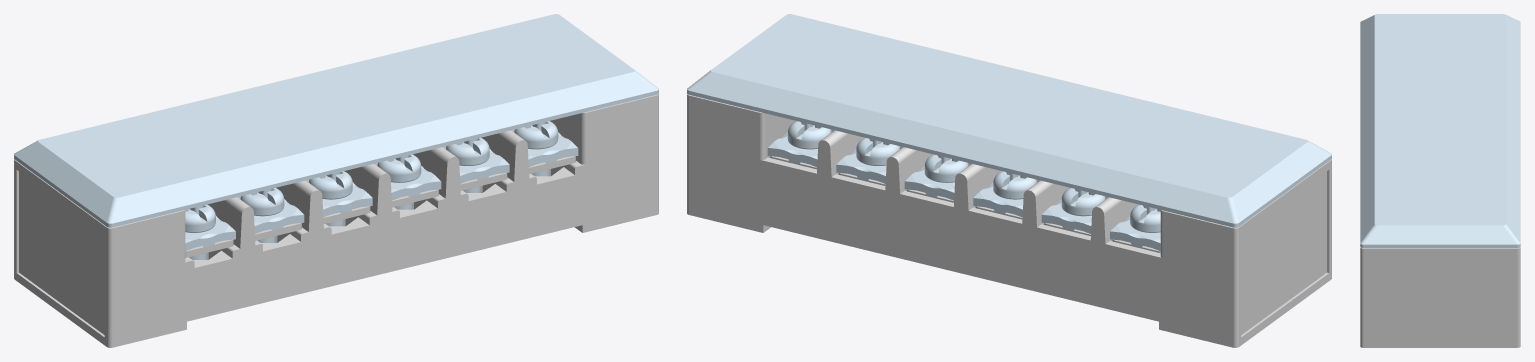
File: CHINT_TB-1506.glb
3 renders of one model, left to right at view 1: azimuth 30°, elevation 25°; view 2: azimuth 150°, elevation 25°; view 3: azimuth 270°, elevation 25°, orthographic. The views are drawn at different scales.
Parts seen in each view (by area): view 1: TB-1506-DIZUO, TB-1506-GAI, =>[0:1:1:8] (×6); view 2: TB-1506-DIZUO, TB-1506-GAI, =>[0:1:1:8] (×6); view 3: TB-1506-GAI, TB-1506-DIZUO.
Part boxes in pixels (<box>): TB-1506-DIZUO: <box>14,94,658,347</box>; TB-1506-GAI: <box>14,14,658,227</box>; =>[0:1:1:8] (×6): <box>185,121,578,259</box>; TB-1506-DIZUO: <box>687,94,1331,347</box>; TB-1506-GAI: <box>687,14,1331,227</box>; =>[0:1:1:8] (×6): <box>767,121,1160,250</box>; TB-1506-GAI: <box>1360,14,1520,247</box>; TB-1506-DIZUO: <box>1360,247,1520,347</box>.
Size of the model in its own units: 0.0725 by 0.0176 by 0.022.
